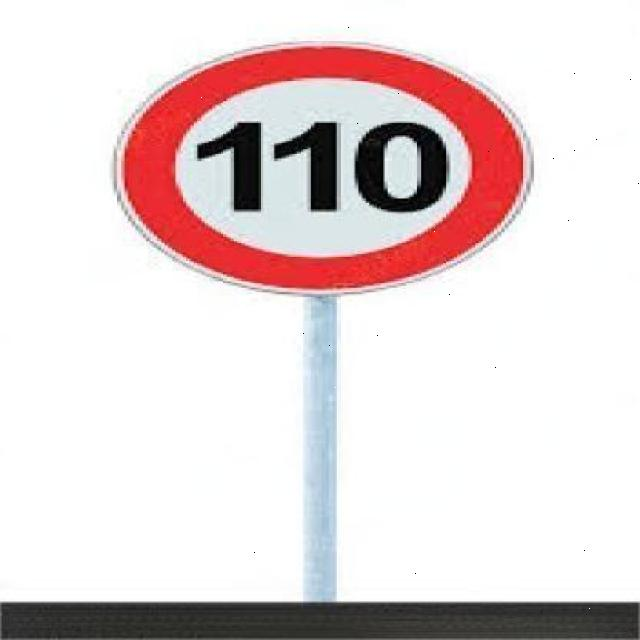speed limit 110: (111, 41, 535, 297)
